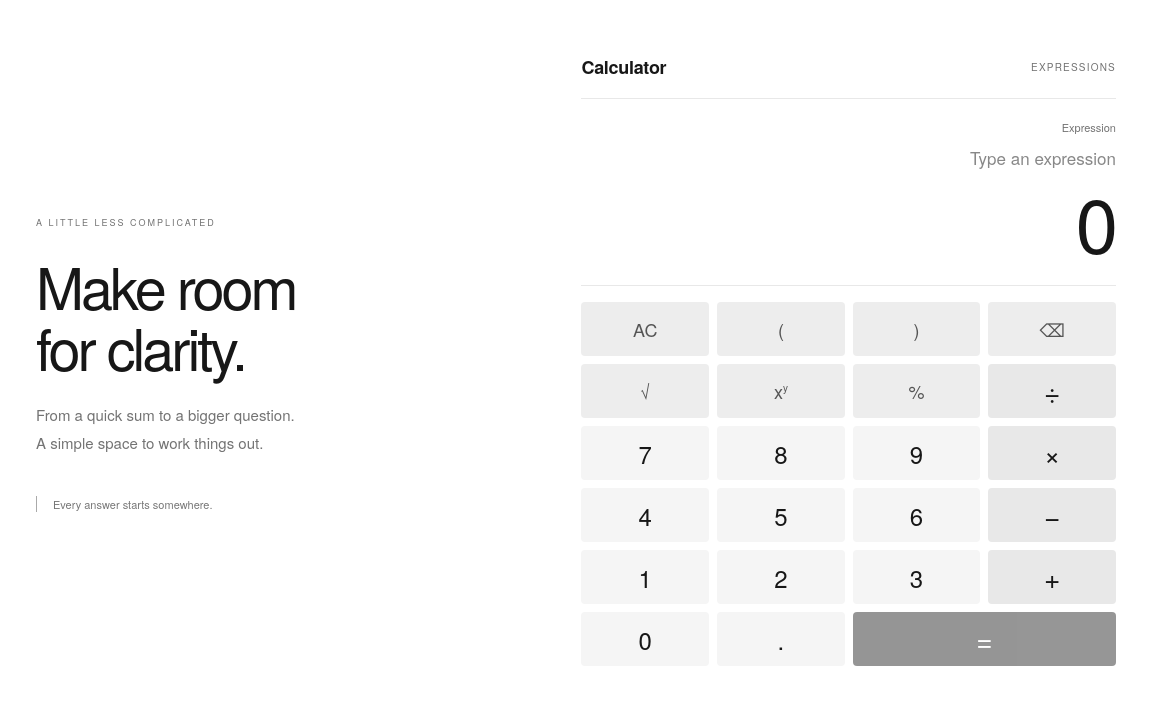
Test: Calculator view › replaces selected text and restores the cursor after insertion
The width and height of the screenshot is (1152, 720).
In the field labelled "Expression": (849, 157) [581,135,1116,180], type "1234"
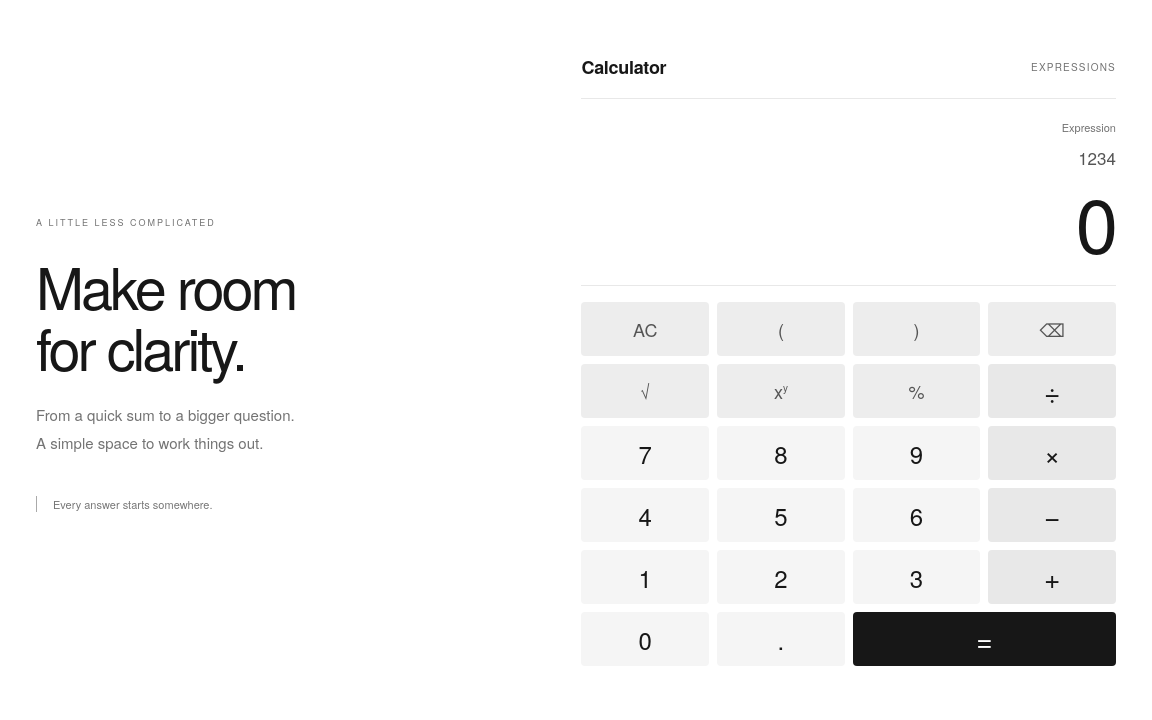
Click the button "9": (916, 453) [853,426,980,480]
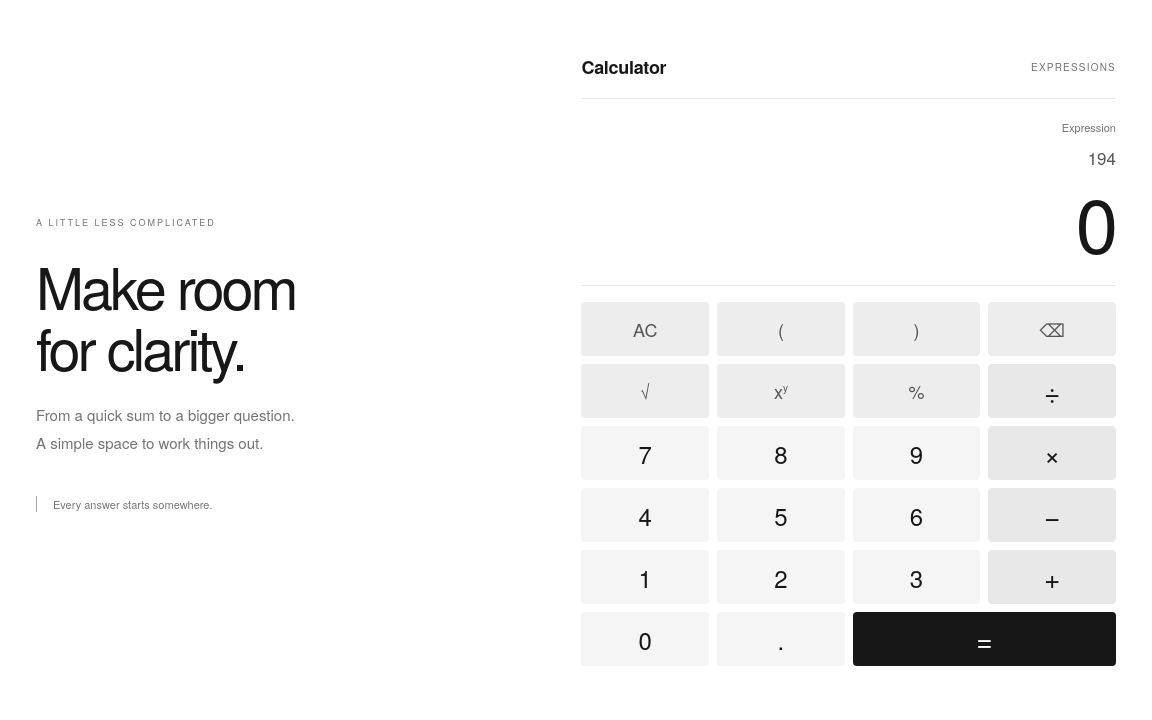
Result: the field labelled "Expression" holds "194" at [581,135,1116,180]
